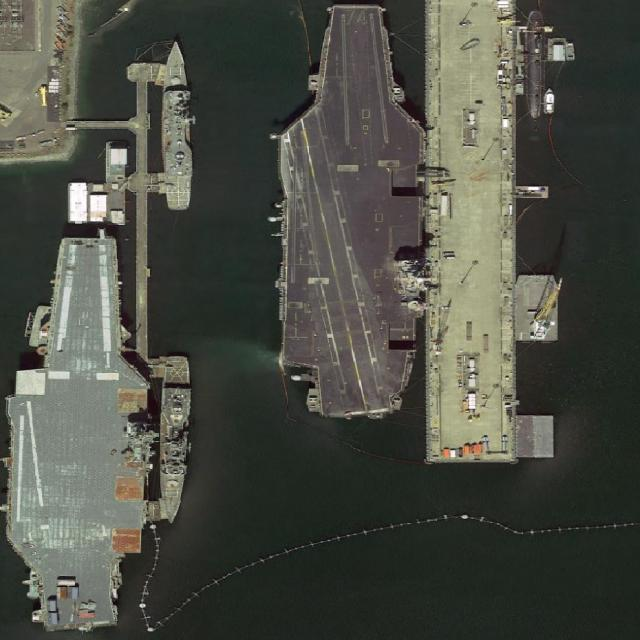Aircraft Carrier: (277, 6, 425, 414), (5, 238, 149, 630)
Dock: (425, 3, 518, 462), (137, 83, 149, 363)
Frigate: (162, 39, 192, 209)
Submarine: (526, 10, 546, 118)
